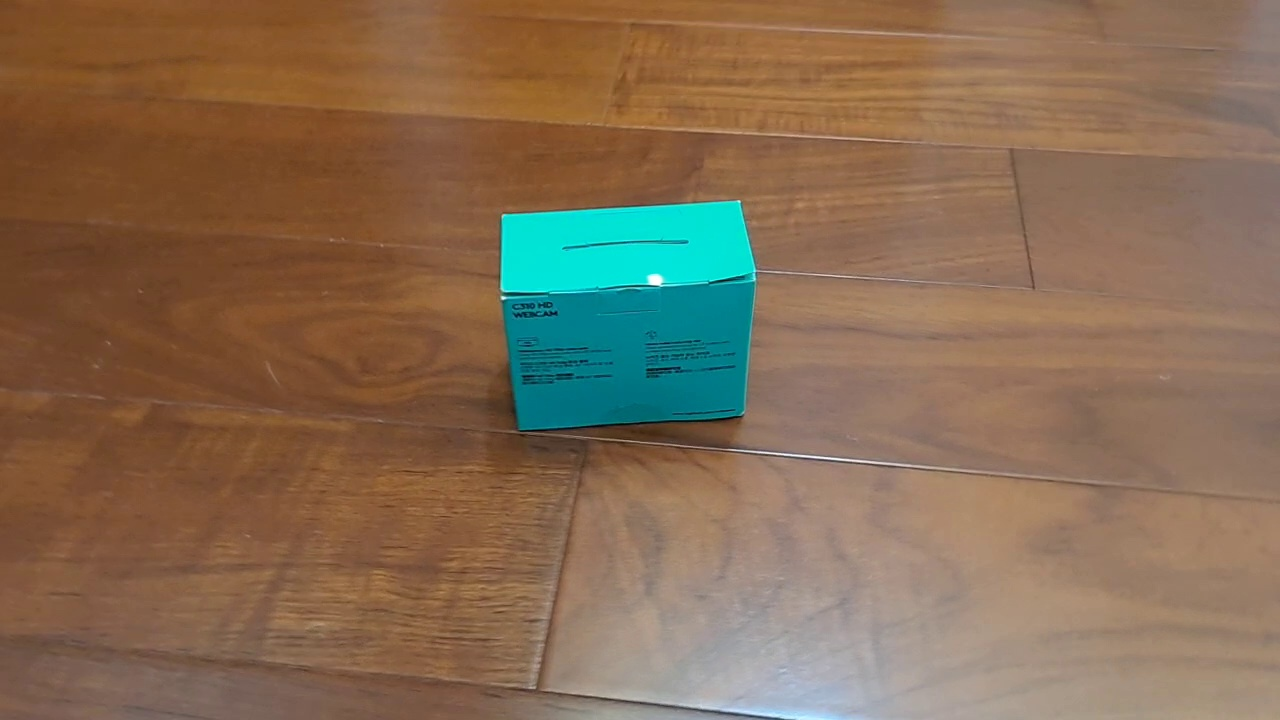webcam: (497, 198, 760, 435)
